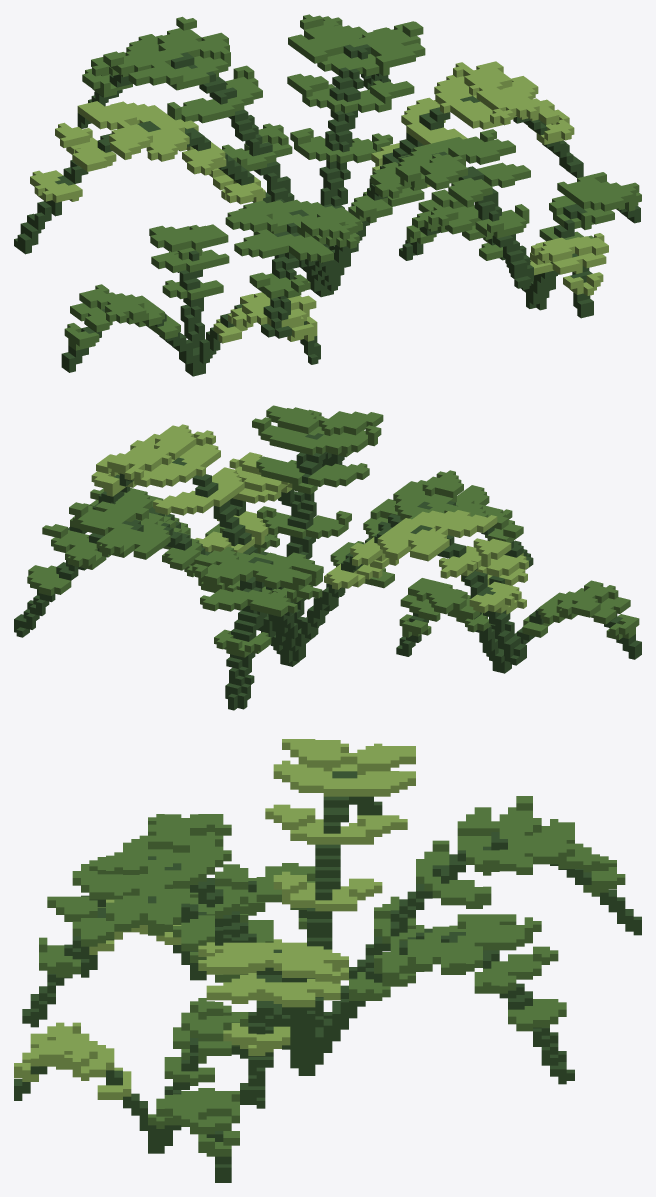
Rendered from fern_cluster_v2_species1_near.glb.
3 renders of one model, top to bottom at view 1: azimuth 30°, elevation 25°; view 2: azimuth 150°, elevation 25°; view 3: azimuth 270°, elevation 25°, orthographic. The views are drawn at different scales.
Parts seen in each view (by area): view 1: fern_cluster_v2_species1_near; view 2: fern_cluster_v2_species1_near; view 3: fern_cluster_v2_species1_near.
Part boxes in pixels (x1,y1,x2,y2): fern_cluster_v2_species1_near: (14,14,641,376); fern_cluster_v2_species1_near: (14,405,641,710); fern_cluster_v2_species1_near: (14,739,641,1182).
Bounding box in the file's own units: 2.81 × 0.9062 × 2.34.
Materials: 1 (1 with a texture image).
